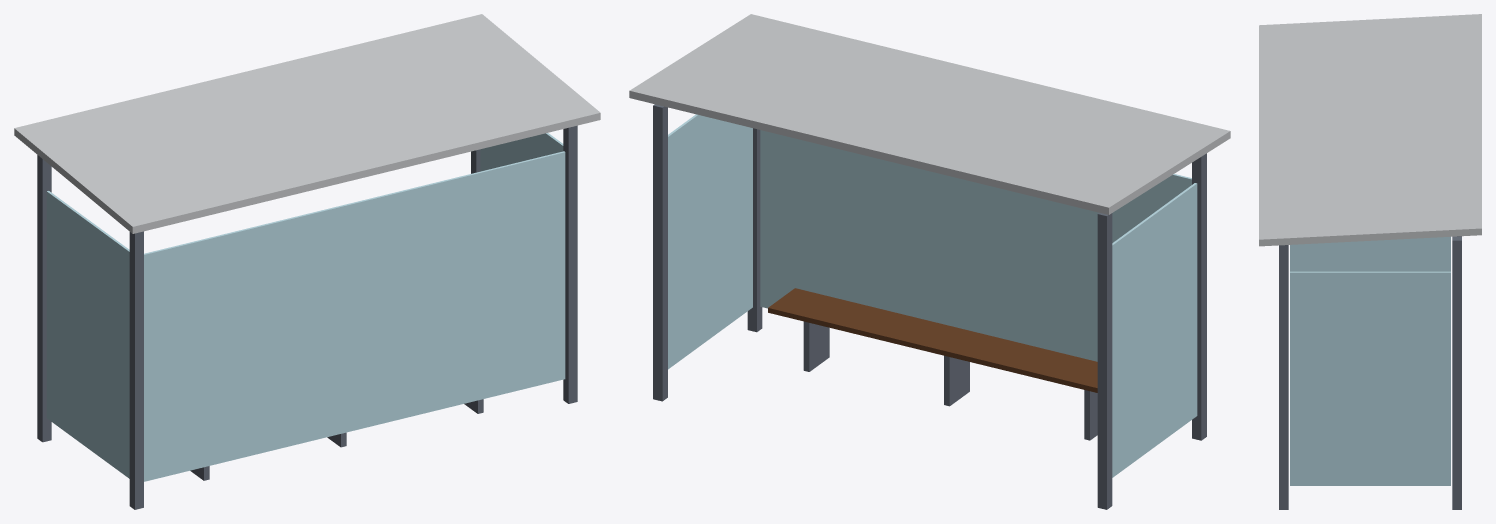
Rendered from station.rail.shelter.glb.
3 renders of one model, left to right at view 1: azimuth 30°, elevation 25°; view 2: azimuth 150°, elevation 25°; view 3: azimuth 270°, elevation 25°, orthographic. The views are drawn at different scales.
Visible parts, largest first — view 1: main__glass, main__aluminium, main__steel_painted; view 2: main__glass, main__aluminium, main__steel_painted, main__hardwood; view 3: main__aluminium, main__glass, main__steel_painted.
Part boxes in pixels (x1,y1,x2,y2): main__glass: (46, 133, 565, 481); main__aluminium: (14, 14, 600, 233); main__steel_painted: (37, 125, 577, 509); main__glass: (668, 114, 1197, 477); main__aluminium: (629, 14, 1230, 214); main__steel_painted: (653, 104, 1206, 509); main__hardwood: (768, 288, 1097, 392); main__aluminium: (1259, 14, 1481, 246); main__glass: (1290, 236, 1450, 485); main__steel_painted: (1279, 236, 1461, 509).
Bounding box in the file's own units: 4.1 × 2.56 × 1.8.
